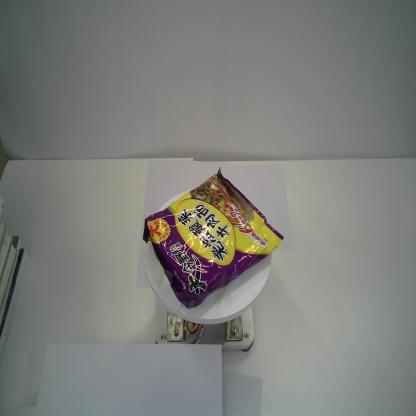Instant Noodles: (141, 165, 285, 310)
